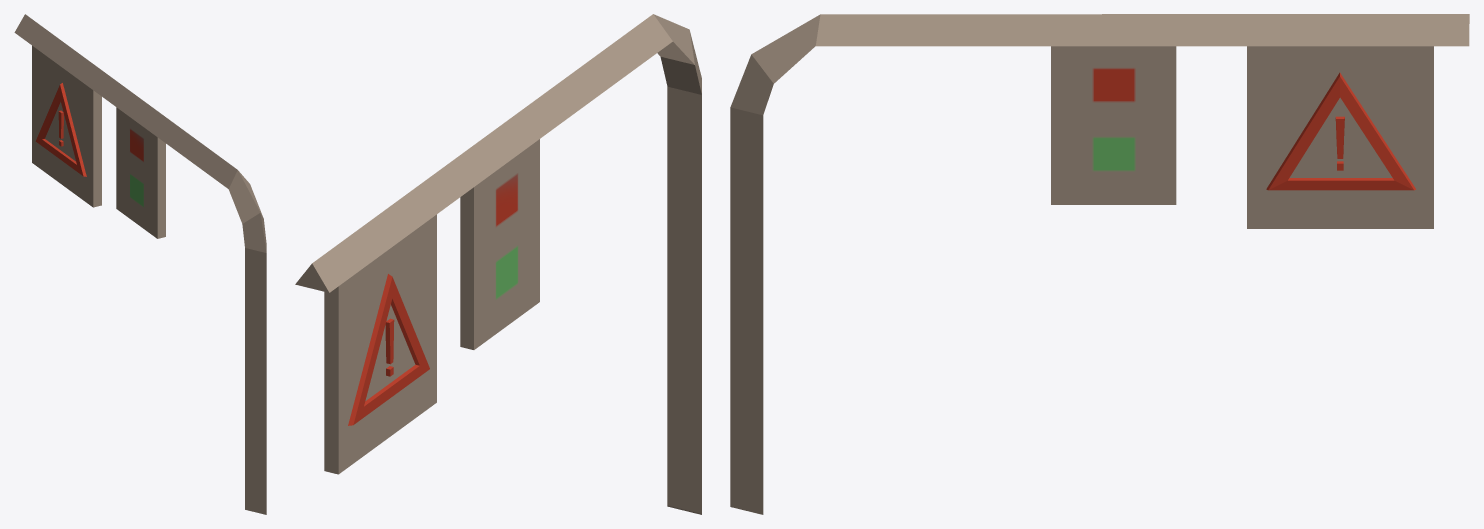
Rendered from fbTrafficLightWide.fbx.
The picture shows the model from 3 angles, left to right: view 1: azimuth 30°, elevation 25°; view 2: azimuth 150°, elevation 25°; view 3: azimuth 270°, elevation 25°; orthographic projection. The views are drawn at different scales.
Parts seen in each view (by area): view 1: Cylinder.007; view 2: Cylinder.007; view 3: Cylinder.007.
Part boxes in pixels (bbox=[...]): Cylinder.007: bbox=[14, 14, 266, 514]; Cylinder.007: bbox=[295, 14, 701, 514]; Cylinder.007: bbox=[730, 14, 1469, 514].
Size of the model in its own units: 34.85 by 482 by 654.
